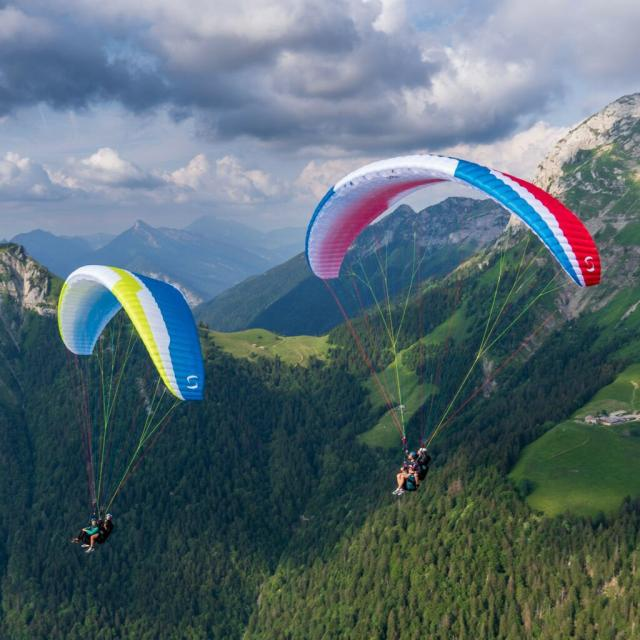paraglider: (303, 151, 602, 496), (54, 262, 206, 552)
